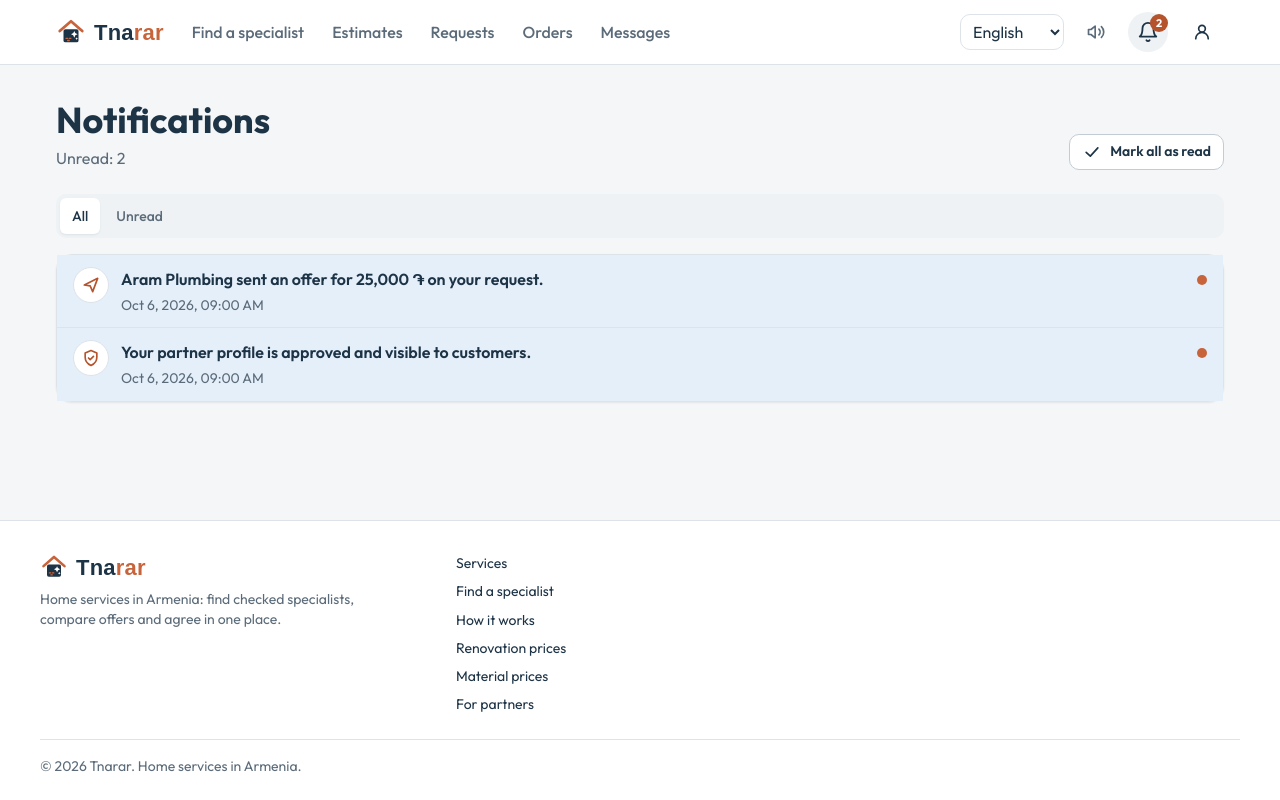
Notifications › marks everything as read and filters unread ones
Click the radio button labelled "Unread" at (140, 216), box [104,198,175,234]
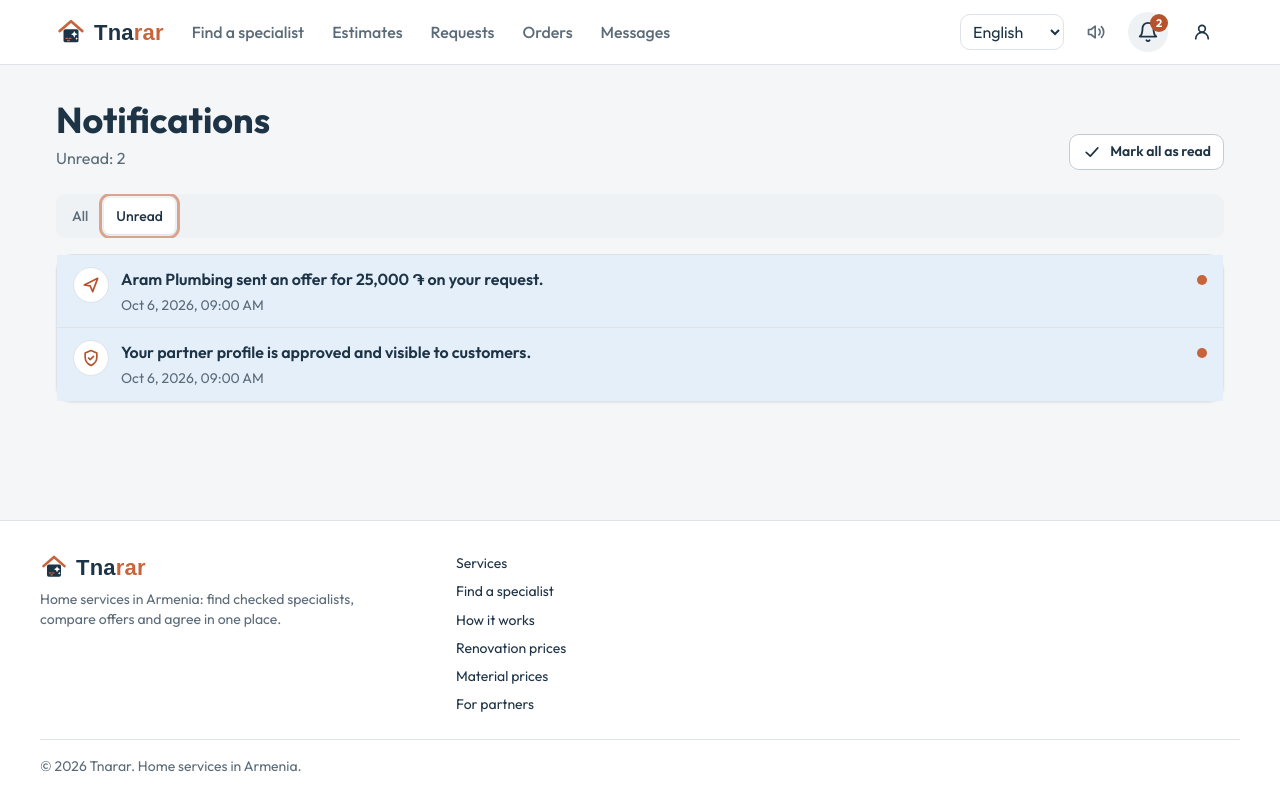
expect the text "Your partner profile is approved and visible to customers." is shown: met, box [121,342,531,362]
Click the button "Mark all as read" at (1147, 152), box [1069,134,1224,170]
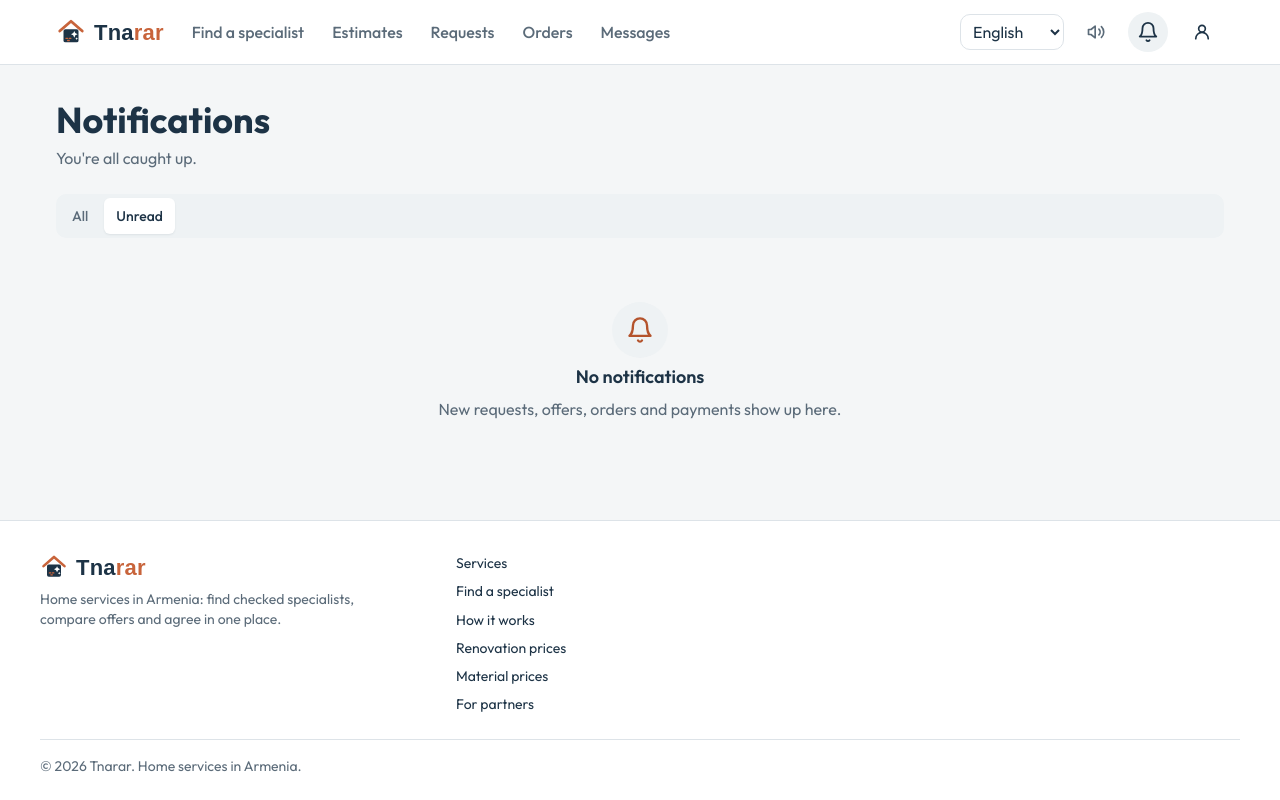
expect the link named "Notifications" is shown: met, box [1128,12,1168,52]
expect the text "No notifications" is shown: met, box [576,366,704,388]
